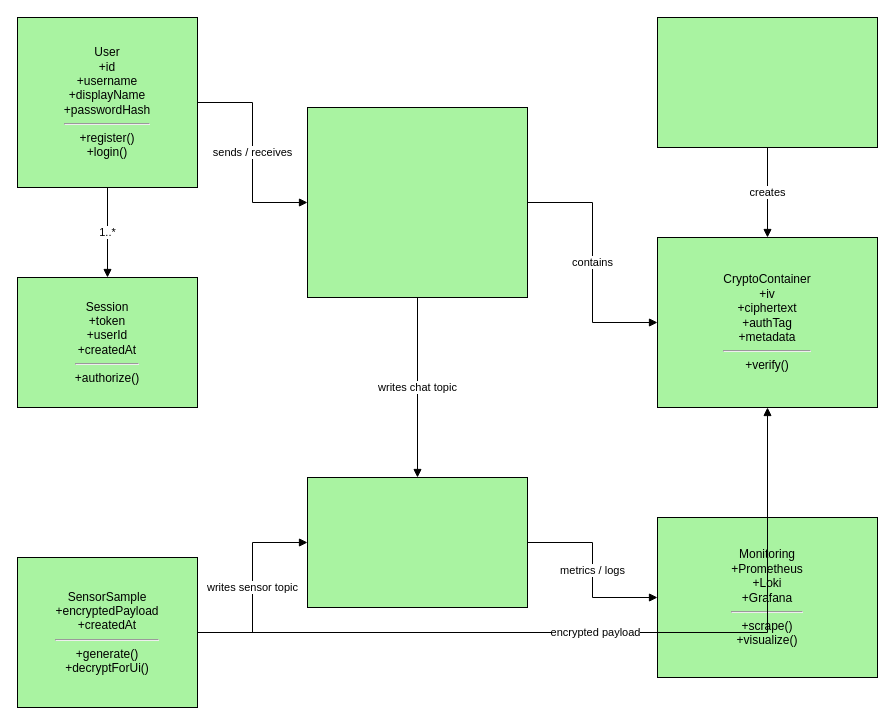
Image size: 895x725. Some labels were removed from this diagram. Each missing label, with the centre of its shape:
"CryptoService +masterSecret +algorithm +encrypt() +decrypt()" goes at point (767, 82).
"KafkaBroker +chatTopic +sensorTopic +publish() +route()" goes at point (417, 542).
"Message +id +senderId +recipientId +chatTopic +create() +decryptForUser()" goes at point (417, 202).
